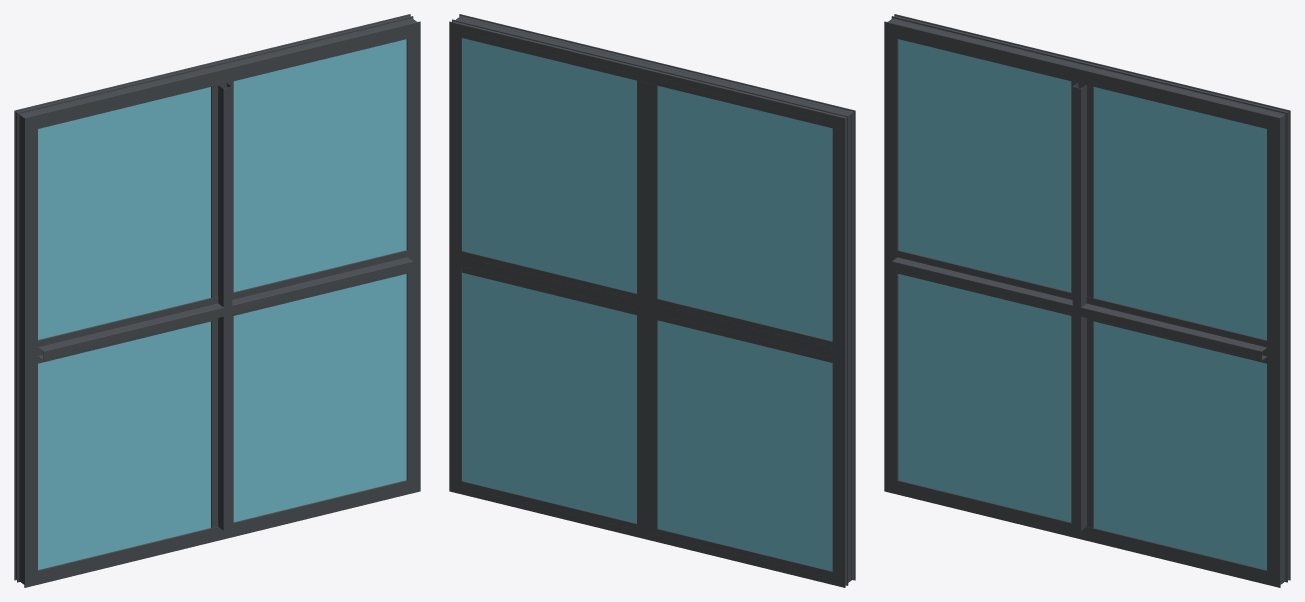
Rendered from uploads_files_2798764_Aluprof_MB-79N_010_M-0408.fbx.
The picture shows the model from 3 angles, left to right: view 1: azimuth 30°, elevation 25°; view 2: azimuth 150°, elevation 25°; view 3: azimuth 330°, elevation 25°; orthographic projection.
Visible parts, largest first — view 1: Mesh205, Mesh199, Mesh215, Mesh206, Mesh226, Mesh196, Mesh223, Mesh220, Mesh211, Mesh225; view 2: Mesh202, Mesh200, Mesh201, Mesh216, Mesh223, Mesh227, Mesh195, Mesh226, Mesh225, Mesh198, Mesh197, Mesh210 (+5 smaller); view 3: Mesh199, Mesh205, Mesh206, Mesh215, Mesh226, Mesh196, Mesh223, Mesh211, Mesh220, Mesh225.
Boxes of the visible parts, bbox=[...] form: Mesh205: bbox=[233, 39, 406, 291]; Mesh199: bbox=[38, 87, 210, 339]; Mesh215: bbox=[233, 274, 406, 522]; Mesh206: bbox=[38, 321, 210, 569]; Mesh226: bbox=[23, 21, 420, 587]; Mesh196: bbox=[211, 81, 233, 530]; Mesh223: bbox=[14, 14, 413, 582]; Mesh220: bbox=[38, 297, 223, 363]; Mesh211: bbox=[232, 250, 413, 316]; Mesh225: bbox=[19, 18, 416, 583]; Mesh202: bbox=[657, 86, 832, 341]; Mesh200: bbox=[462, 38, 636, 293]; Mesh201: bbox=[657, 320, 832, 571]; Mesh216: bbox=[462, 272, 636, 523]; Mesh223: bbox=[449, 19, 848, 587]; Mesh227: bbox=[456, 30, 838, 578]; Mesh195: bbox=[642, 82, 651, 527]; Mesh226: bbox=[459, 14, 855, 580]; Mesh225: bbox=[456, 17, 851, 582]; Mesh198: bbox=[651, 84, 657, 528]; Mesh197: bbox=[637, 80, 642, 525]; Mesh210: bbox=[461, 257, 636, 309]; Mesh199: bbox=[898, 39, 1071, 291]; Mesh205: bbox=[1094, 87, 1266, 339]; Mesh206: bbox=[898, 274, 1071, 522]; Mesh215: bbox=[1094, 321, 1266, 569]; Mesh226: bbox=[884, 21, 1281, 587]; Mesh196: bbox=[1071, 81, 1093, 530]; Mesh223: bbox=[891, 14, 1290, 582]; Mesh211: bbox=[1081, 297, 1267, 363]; Mesh220: bbox=[892, 250, 1072, 316]; Mesh225: bbox=[888, 18, 1285, 583].
Bounding box in the file's own units: 1542 × 1748 × 108.
